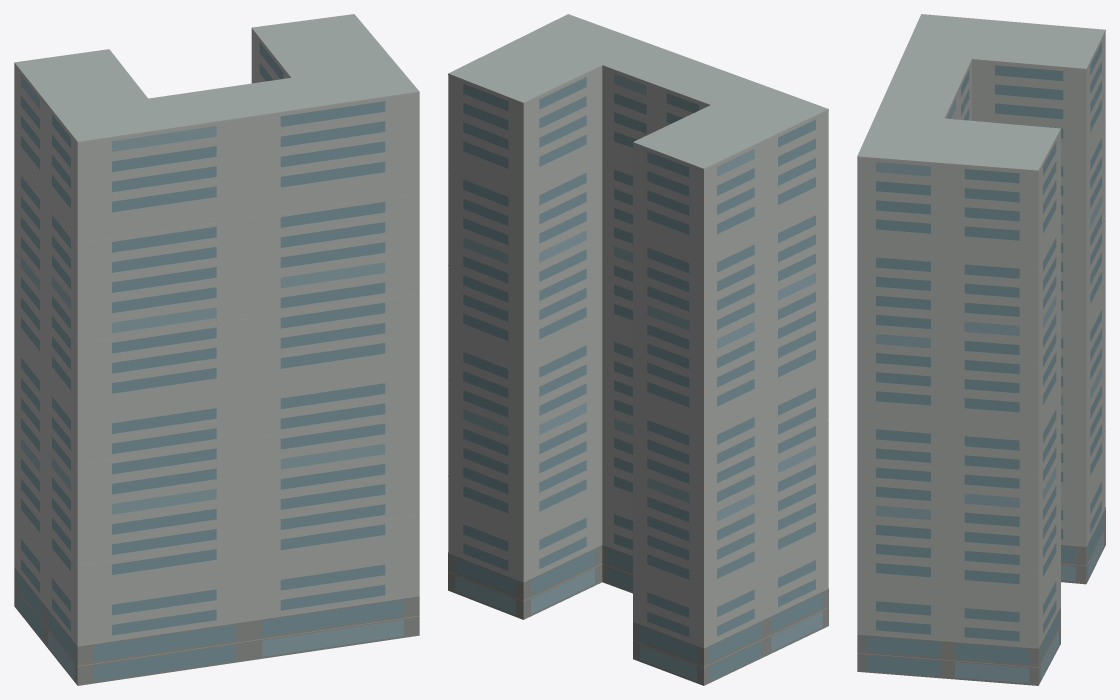
The model's file is survey-upis-32810819.glb.
3 renders of one model, left to right at view 1: azimuth 30°, elevation 25°; view 2: azimuth 150°, elevation 25°; view 3: azimuth 270°, elevation 25°, orthographic. The views are drawn at different scales.
Visible parts, largest first — view 1: survey-upis-32810819.tmp; view 2: survey-upis-32810819.tmp; view 3: survey-upis-32810819.tmp.
Boxes of the visible parts, x1,y1,x2,y2 form: survey-upis-32810819.tmp: (14,14,419,685); survey-upis-32810819.tmp: (448,14,828,685); survey-upis-32810819.tmp: (857,14,1105,685).
Bounding box in the file's own units: 61.12 × 93.8 × 41.03.
